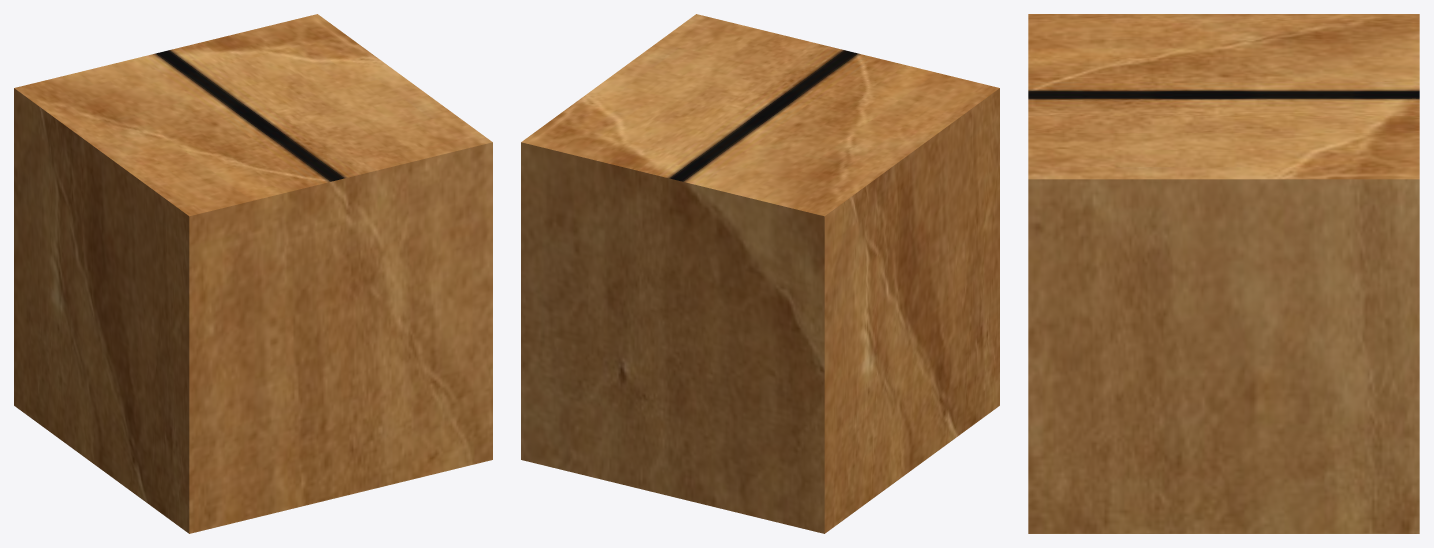
The model's file is Karton.fbx.
3 views of the same model, side by side, from view 1: azimuth 30°, elevation 25°; view 2: azimuth 150°, elevation 25°; view 3: azimuth 270°, elevation 25° (orthographic). The views are drawn at different scales.
Parts seen in each view (by area): view 1: pCube7; view 2: pCube7; view 3: pCube7.
Part boxes in pixels (bbox=[...]): pCube7: bbox=[14, 14, 492, 533]; pCube7: bbox=[521, 14, 999, 533]; pCube7: bbox=[1028, 14, 1419, 533].
Bounding box in the file's own units: 5 × 5 × 5.
2 materials, 2 textured.
